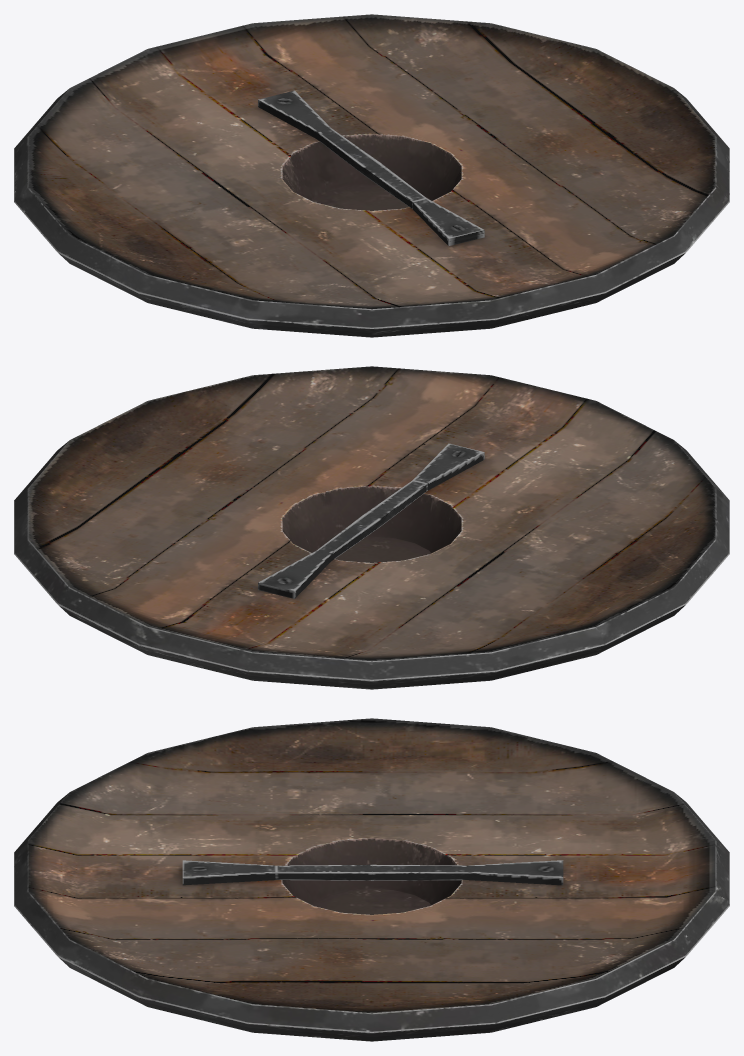
The model's file is Shield.fbx.
3 views of the same model, one above another, from view 1: azimuth 30°, elevation 25°; view 2: azimuth 150°, elevation 25°; view 3: azimuth 270°, elevation 25° (orthographic).
Visible parts, largest first — view 1: Shield; view 2: Shield; view 3: Shield.
Part boxes in pixels (bbox=[...]): Shield: bbox=[14, 14, 729, 337]; Shield: bbox=[14, 366, 729, 689]; Shield: bbox=[14, 718, 729, 1041].
Bounding box in the file's own units: 67.19 × 10.6 × 66.17.
